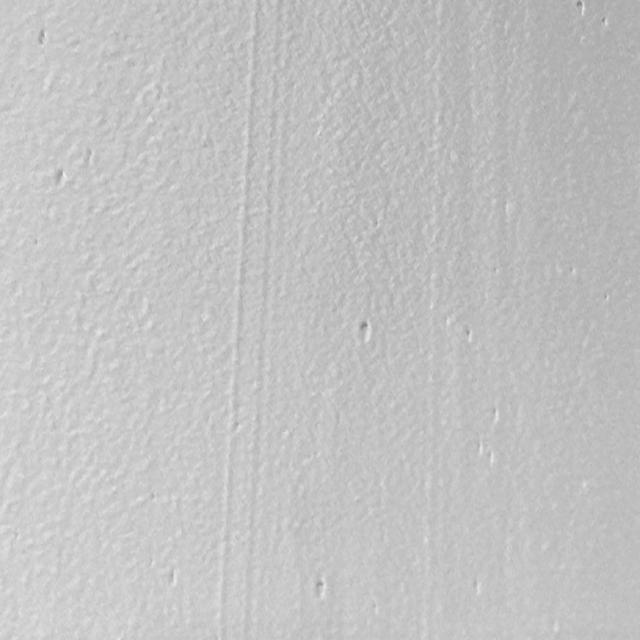pin holes: (356, 318, 377, 346), (310, 576, 329, 604), (484, 404, 504, 430), (468, 576, 487, 600), (460, 322, 478, 346), (50, 167, 68, 190), (164, 568, 180, 590), (38, 28, 50, 50), (573, 0, 588, 17), (598, 15, 610, 30)
